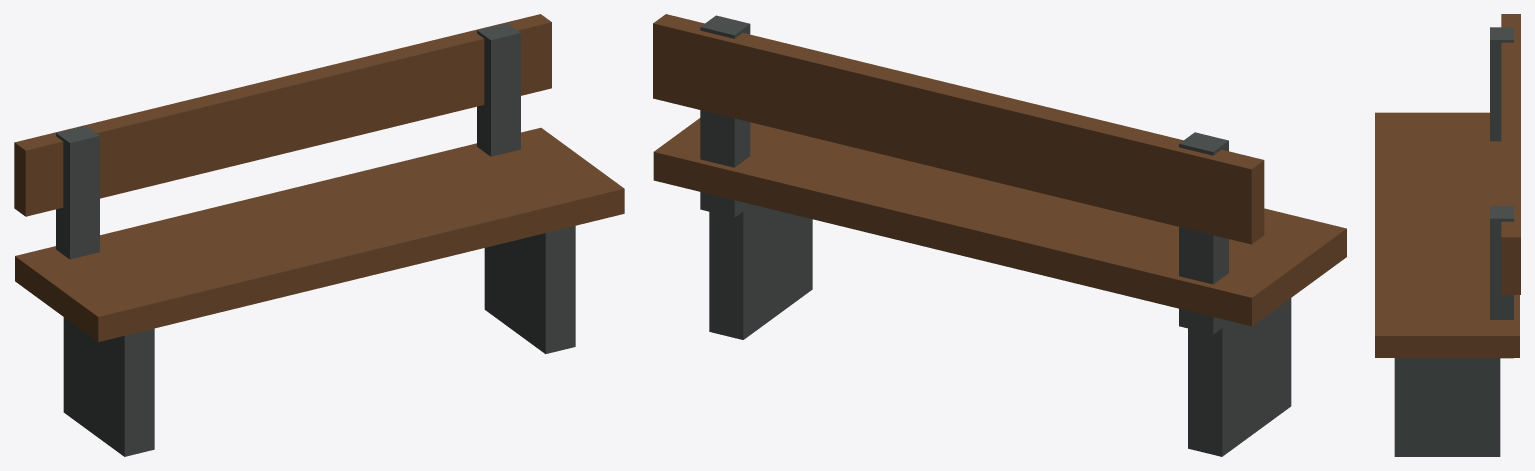
The model's file is bench.glb.
3 renders of one model, left to right at view 1: azimuth 30°, elevation 25°; view 2: azimuth 150°, elevation 25°; view 3: azimuth 270°, elevation 25°, orthographic. The views are drawn at different scales.
Visible parts, largest first — view 1: bench; view 2: bench; view 3: bench.
Part boxes in pixels (x1=…): bench: x1=14, y1=14, x2=624, y2=456; bench: x1=653, y1=14, x2=1346, y2=456; bench: x1=1375, y1=14, x2=1520, y2=456.
Size of the model in its own units: 1.75 by 0.87 by 0.4825.
